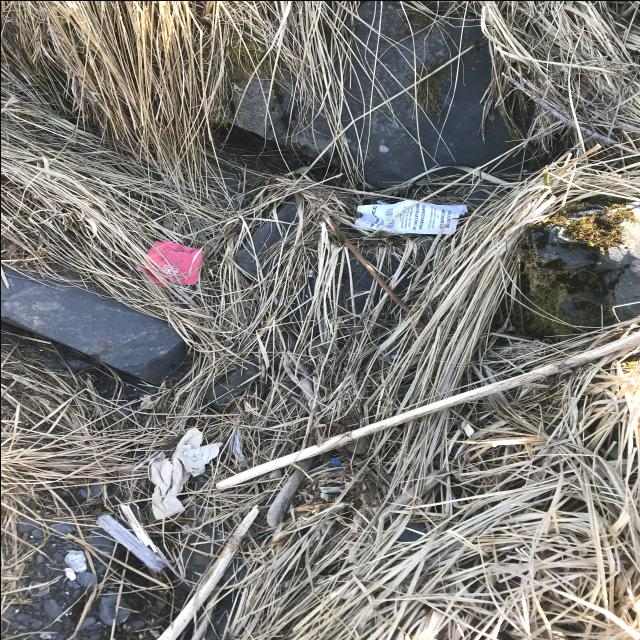Meal carton: (135, 239, 202, 287)
Normal paper: (353, 199, 467, 233)
Other plastic bottle: (327, 457, 340, 466)
Plastic film: (95, 513, 167, 572)
Tissues: (147, 427, 223, 518)
Unlabeled litter: (232, 430, 246, 465)
